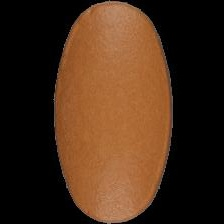59630-503: (0, 0, 224, 224)
